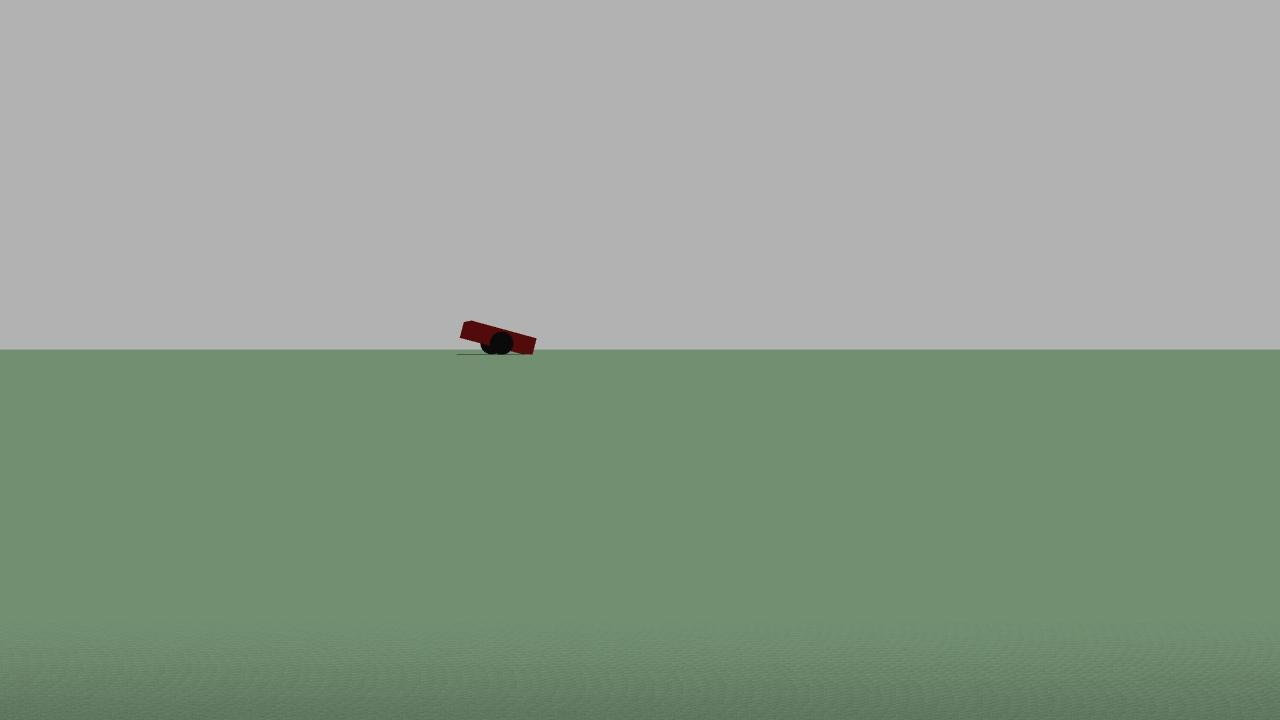ground_vehicle: (457, 307, 563, 369)
